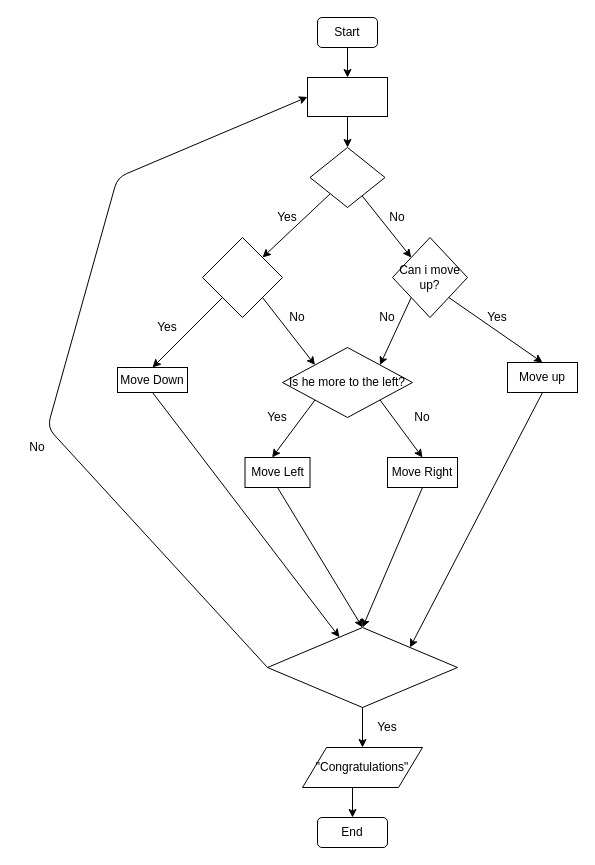
This 595x865 diagram has some shape labels left out. Here are the shapes that lost their labels. From the top down, the centre of each, then its label:
At (x=347, y=96): "Where is Pacman?".
At (x=347, y=177): "Under me?".
At (x=242, y=277): "Can I move Down?".
At (x=362, y=667): "Have i catched Pacman?".
